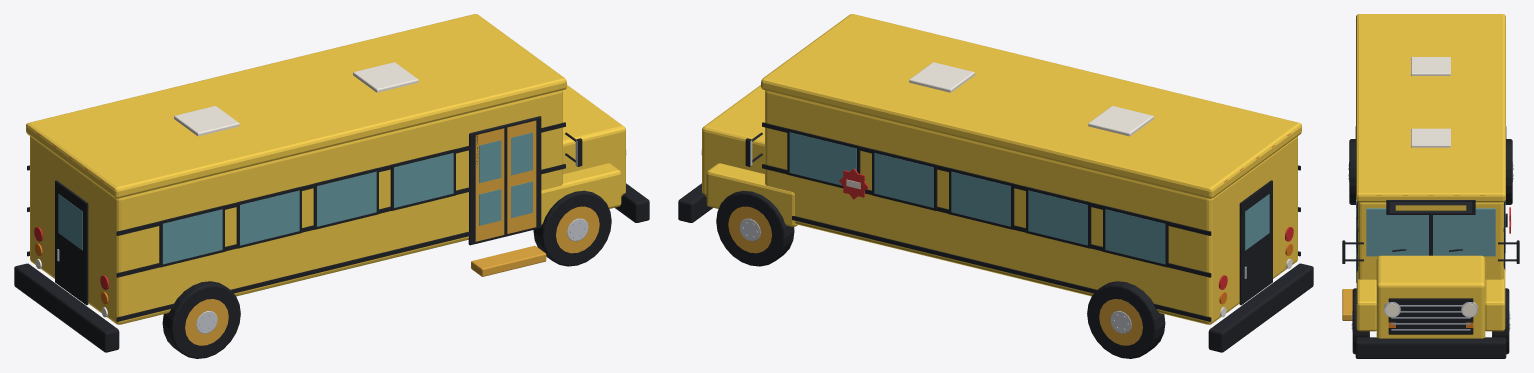
The model's file is SchoolBus.glb.
3 views of the same model, side by side, from view 1: azimuth 30°, elevation 25°; view 2: azimuth 150°, elevation 25°; view 3: azimuth 270°, elevation 25° (orthographic). The views are drawn at different scales.
Visible parts, largest first — view 1: Bus_Body, Wheel_RR, Wheel_FR; view 2: Bus_Body, Wheel_RL, Wheel_FL; view 3: Bus_Body, Wheel_RL, Wheel_RR, Wheel_FL, Wheel_FR.
Part boxes in pixels (x1=…): Bus_Body: x1=14, y1=14, x2=649, y2=352; Wheel_RR: x1=162, y1=281, x2=240, y2=358; Wheel_FR: x1=533, y1=190, x2=611, y2=266; Bus_Body: x1=678, y1=14, x2=1313, y2=352; Wheel_RL: x1=1087, y1=281, x2=1165, y2=358; Wheel_FL: x1=716, y1=190, x2=794, y2=266; Bus_Body: x1=1342, y1=14, x2=1519, y2=358; Wheel_RL: x1=1505, y1=139, x2=1513, y2=204; Wheel_RR: x1=1348, y1=139, x2=1355, y2=204; Wheel_FL: x1=1492, y1=288, x2=1510, y2=354; Wheel_FR: x1=1351, y1=288, x2=1369, y2=354.
Bounding box in the file's own units: 10.97 × 3.67 × 3.76.
